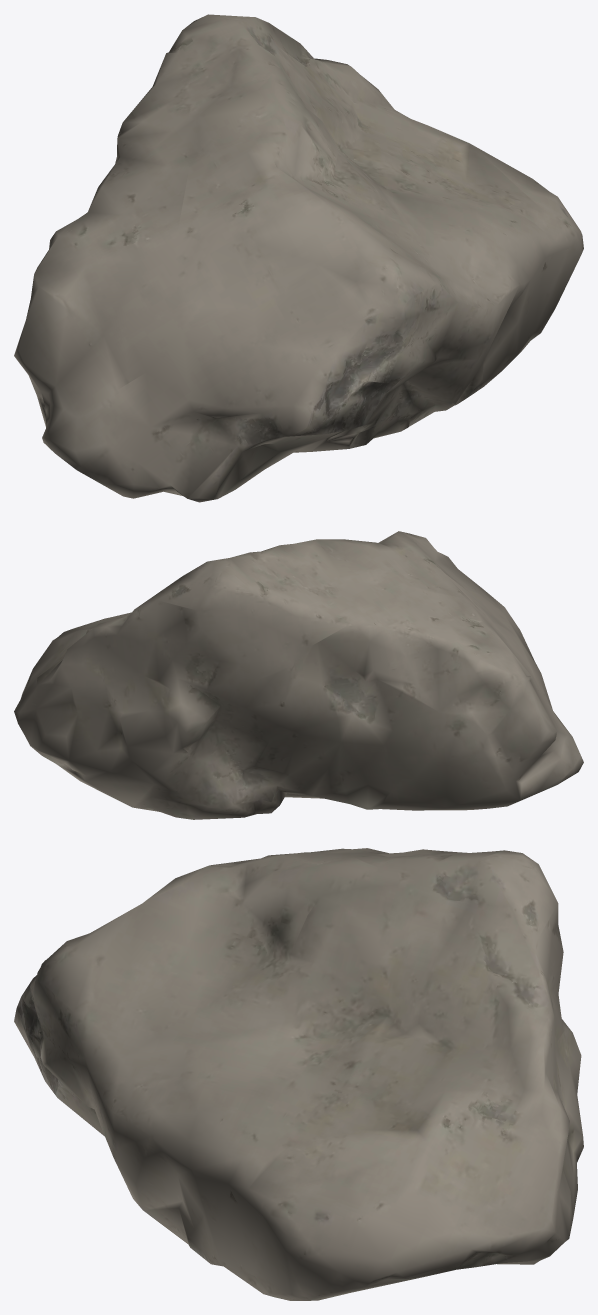
Rendered from moon_rock_03.glb.
The picture shows the model from 3 angles, top to bottom: view 1: azimuth 30°, elevation 25°; view 2: azimuth 150°, elevation 25°; view 3: azimuth 270°, elevation 25°; orthographic projection. The views are drawn at different scales.
Parts seen in each view (by area): view 1: moon_rock_03_LOD0; view 2: moon_rock_03_LOD0; view 3: moon_rock_03_LOD0.
Boxes of the visible parts, x1,y1,x2,y2 form: moon_rock_03_LOD0: (14, 14, 583, 502); moon_rock_03_LOD0: (14, 531, 583, 819); moon_rock_03_LOD0: (14, 848, 583, 1300).
Size of the model in its own units: 0.112 by 0.0582 by 0.0861.
Materials: 1 (1 with a texture image).
